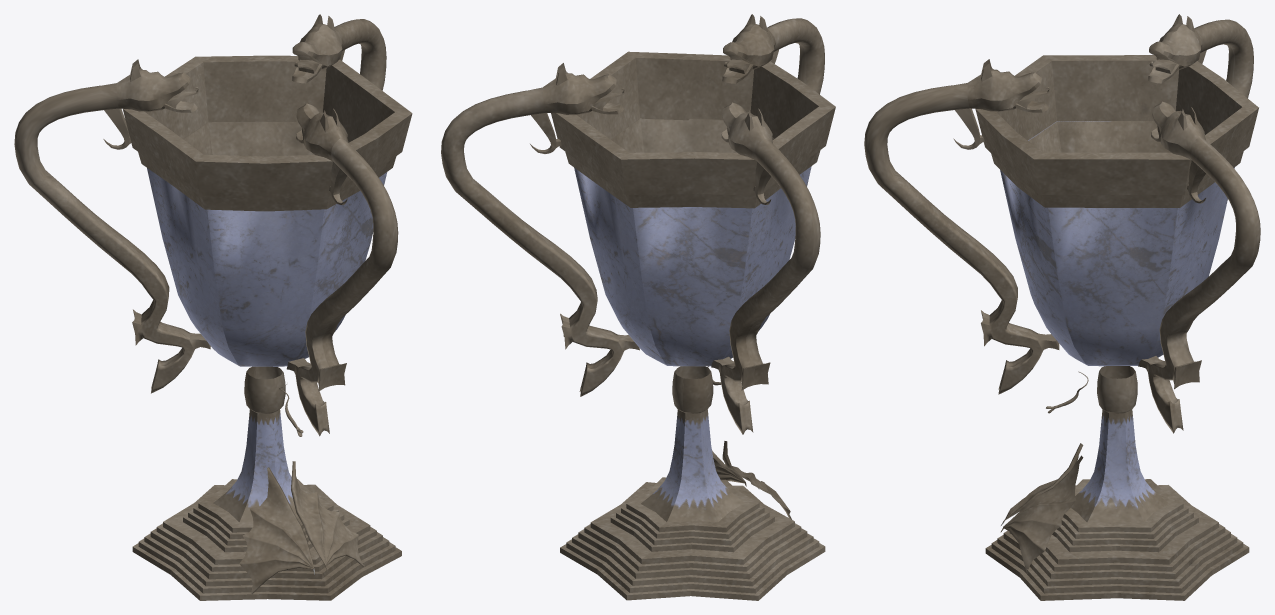
File: copa.obj
3 renders of one model, left to right at view 1: azimuth 30°, elevation 25°; view 2: azimuth 150°, elevation 25°; view 3: azimuth 270°, elevation 25°, orthographic.
Parts seen in each view (by area): view 1: polySurface13_standardSurface1; view 2: polySurface13_standardSurface1; view 3: polySurface13_standardSurface1.
Boxes of the visible parts, x1,y1,x2,y2 form: polySurface13_standardSurface1: (14, 14, 412, 600); polySurface13_standardSurface1: (441, 14, 835, 600); polySurface13_standardSurface1: (864, 14, 1260, 600).
Size of the model in its own units: 1.69 by 2.13 by 1.55.
